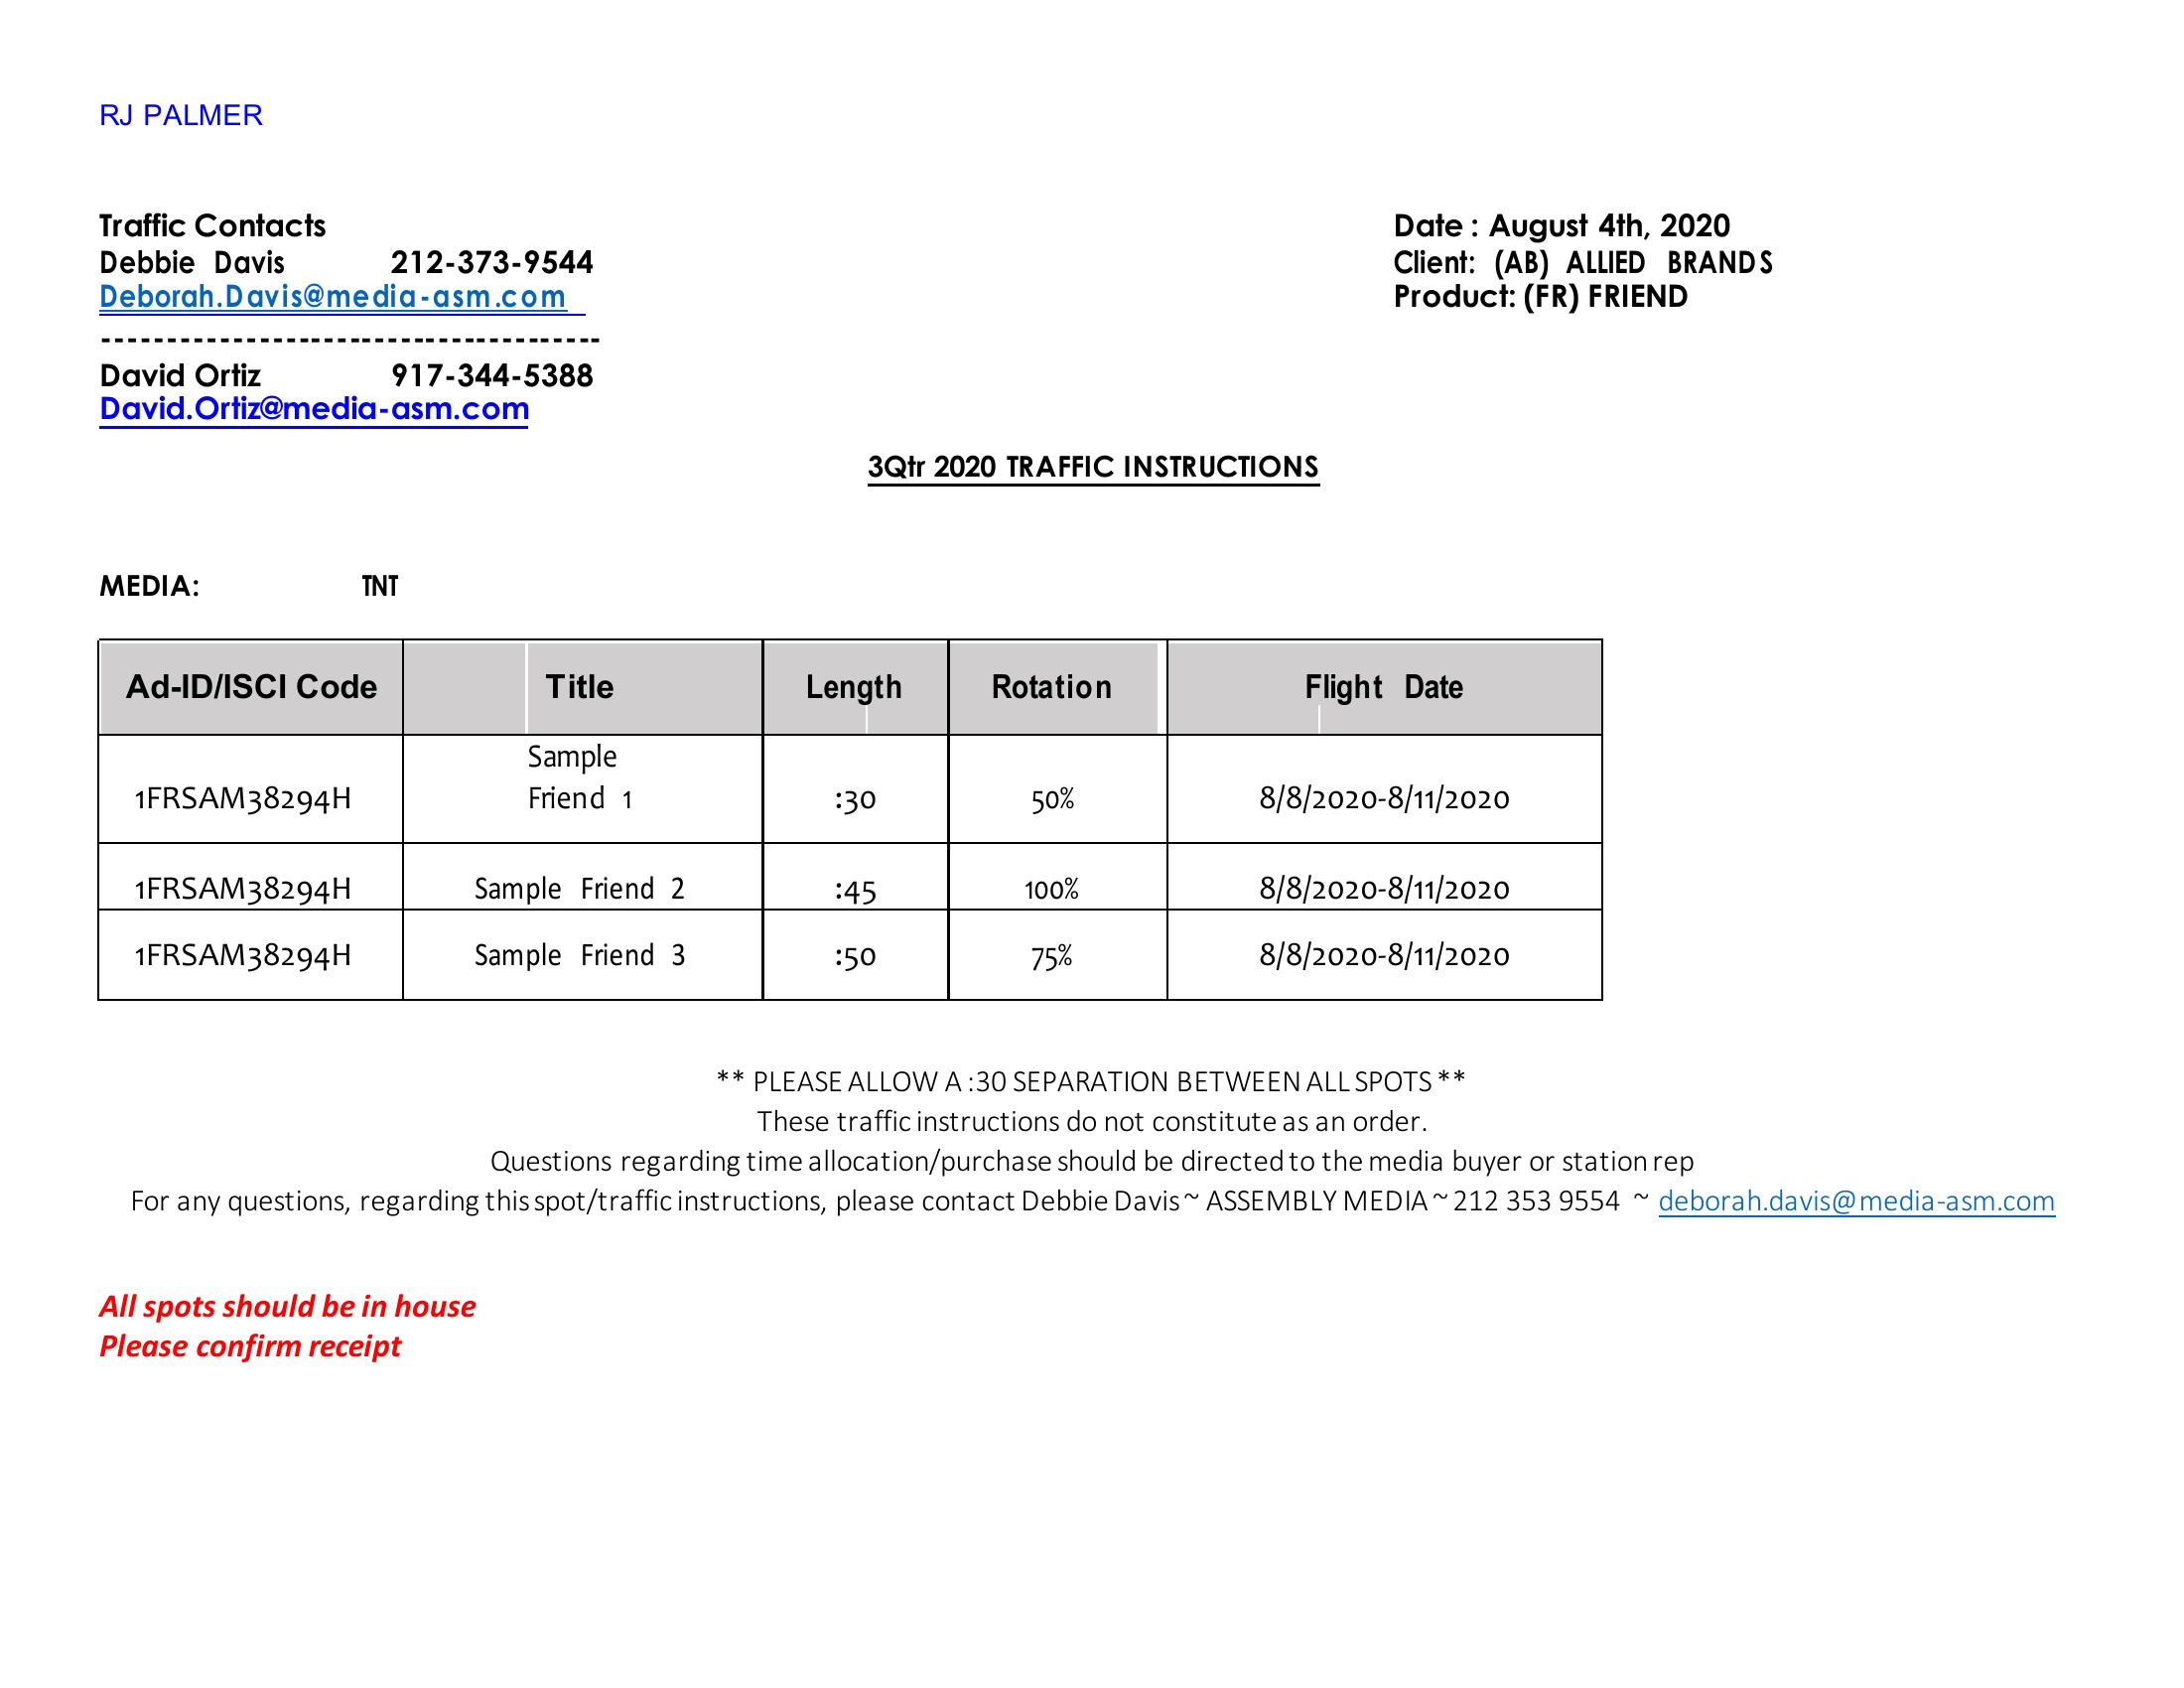table: (80, 622, 1618, 1016)
